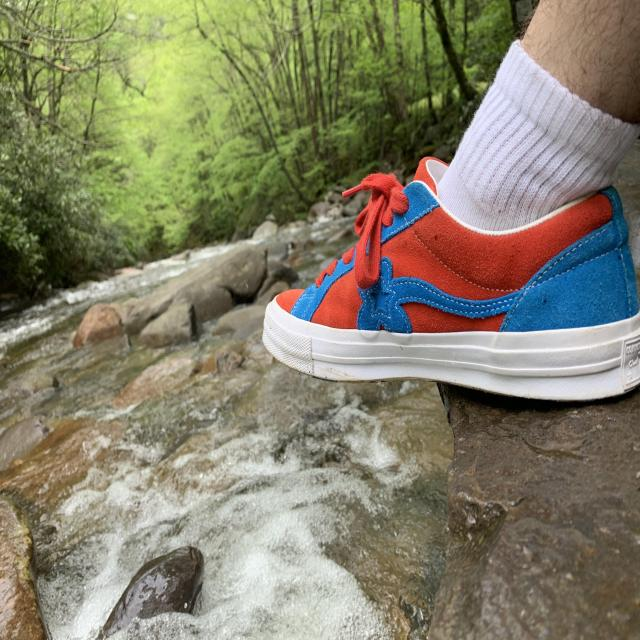shoes: (253, 112, 640, 413)
